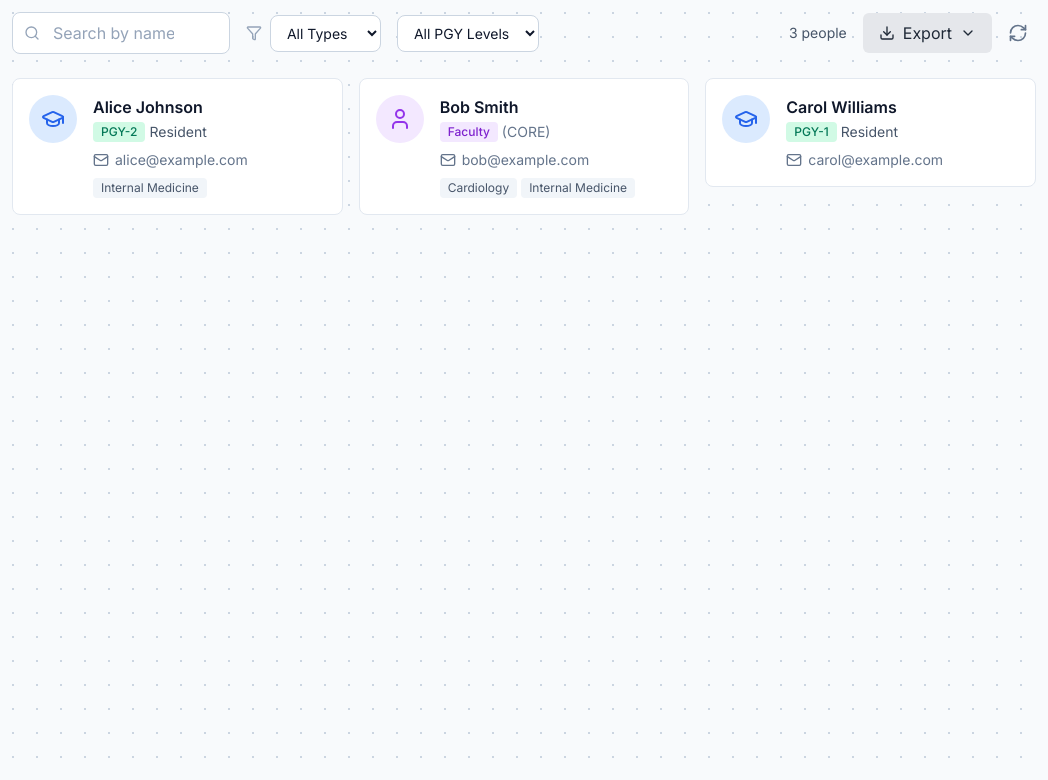
Test: PeopleDirectory › PGY Level Filter › filters people by PGY level
Select "PGY-1" in the dropdown named "filter by pgy level": (468, 33) [397, 14, 539, 52]
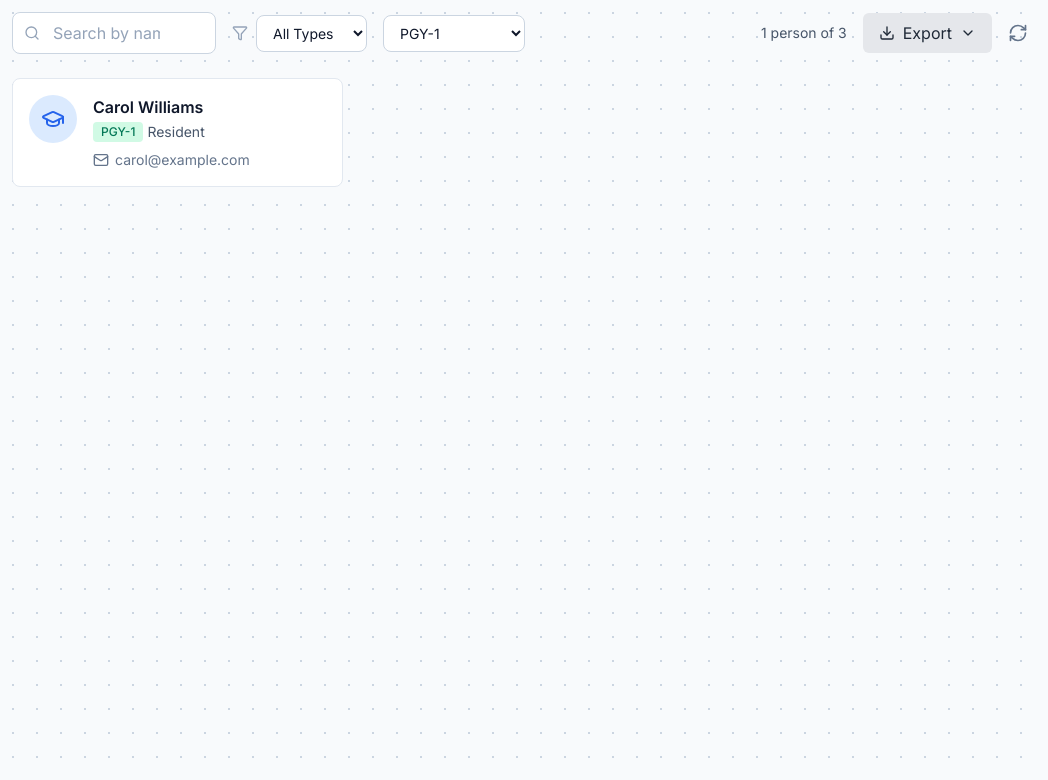
expect the heading "Carol Williams" is shown: met, box [93, 97, 203, 117]
expect the heading "Alice Johnson" is gone: met
